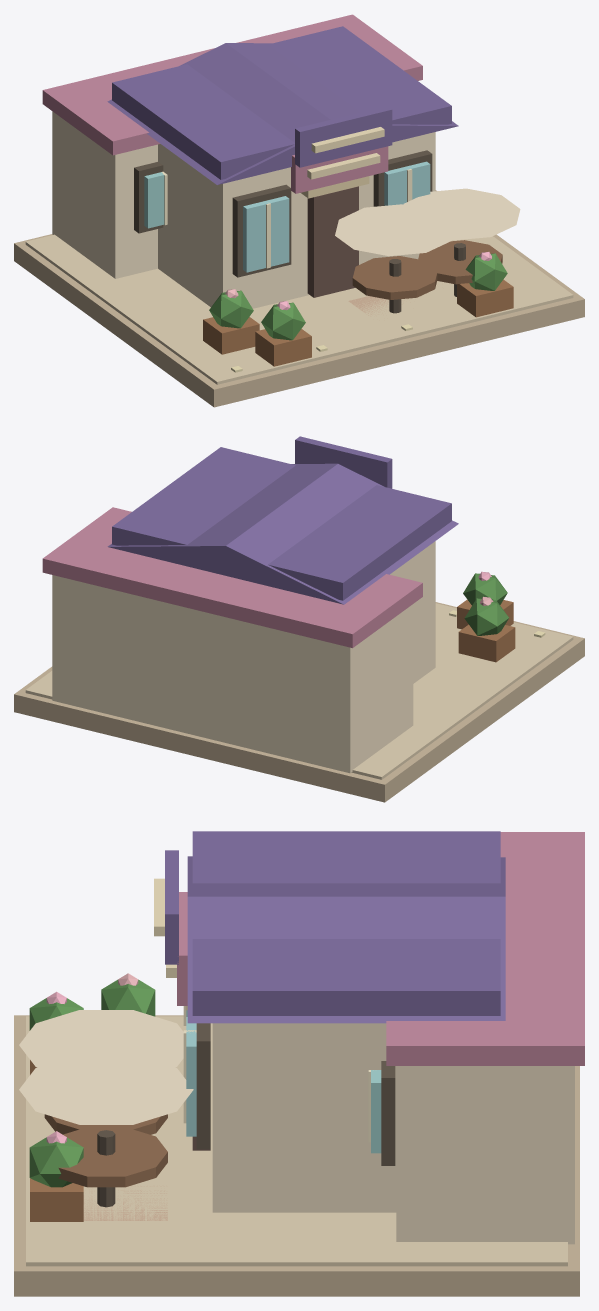
The model's file is cafe-lv2.obj.
3 views of the same model, one above another, from view 1: azimuth 30°, elevation 25°; view 2: azimuth 150°, elevation 25°; view 3: azimuth 270°, elevation 25° (orthographic). The views are drawn at different scales.
Parts seen in each view (by area): view 1: cafe_4, cafe_3, cafe_1, cafe_0, cafe_11, cafe_16, cafe_14, cafe_5, cafe_17, cafe_9, cafe_8, cafe_18 (+5 smaller); view 2: cafe_3, cafe_4, cafe_11, cafe_0, cafe_1, cafe_17, cafe_18; view 3: cafe_3, cafe_4, cafe_1, cafe_11, cafe_0, cafe_16, cafe_14, cafe_18, cafe_8, cafe_17, cafe_13, cafe_9 (+4 smaller).
Boxes of the visible parts, x1,y1,x2,y2 form: cafe_4: [107, 26, 458, 184]; cafe_3: [52, 111, 435, 308]; cafe_1: [25, 234, 573, 384]; cafe_0: [14, 190, 584, 407]; cafe_11: [42, 14, 422, 193]; cafe_16: [335, 188, 520, 256]; cafe_14: [352, 240, 502, 299]; cafe_5: [307, 186, 358, 297]; cafe_17: [203, 279, 513, 366]; cafe_9: [243, 161, 430, 272]; cafe_8: [134, 150, 432, 277]; cafe_18: [209, 253, 507, 340]; cafe_3: [52, 541, 435, 773]; cafe_4: [107, 436, 458, 604]; cafe_11: [42, 507, 422, 648]; cafe_0: [14, 602, 584, 802]; cafe_1: [25, 603, 573, 779]; cafe_17: [457, 599, 515, 662]; cafe_18: [463, 573, 508, 635]; cafe_3: [212, 1023, 574, 1244]; cafe_4: [165, 831, 505, 1023]; cafe_1: [26, 1016, 567, 1266]; cafe_11: [177, 832, 584, 1065]; cafe_0: [14, 1015, 579, 1296]; cafe_16: [19, 1010, 193, 1124]; cafe_14: [44, 1114, 167, 1187]; cafe_18: [29, 979, 155, 1187]; cafe_8: [196, 1023, 395, 1165]; cafe_17: [30, 1060, 83, 1221]; cafe_13: [83, 1186, 167, 1220]; cafe_9: [186, 1010, 196, 1136].
Size of the model in its own units: 3.05 by 1.59 by 2.88.
